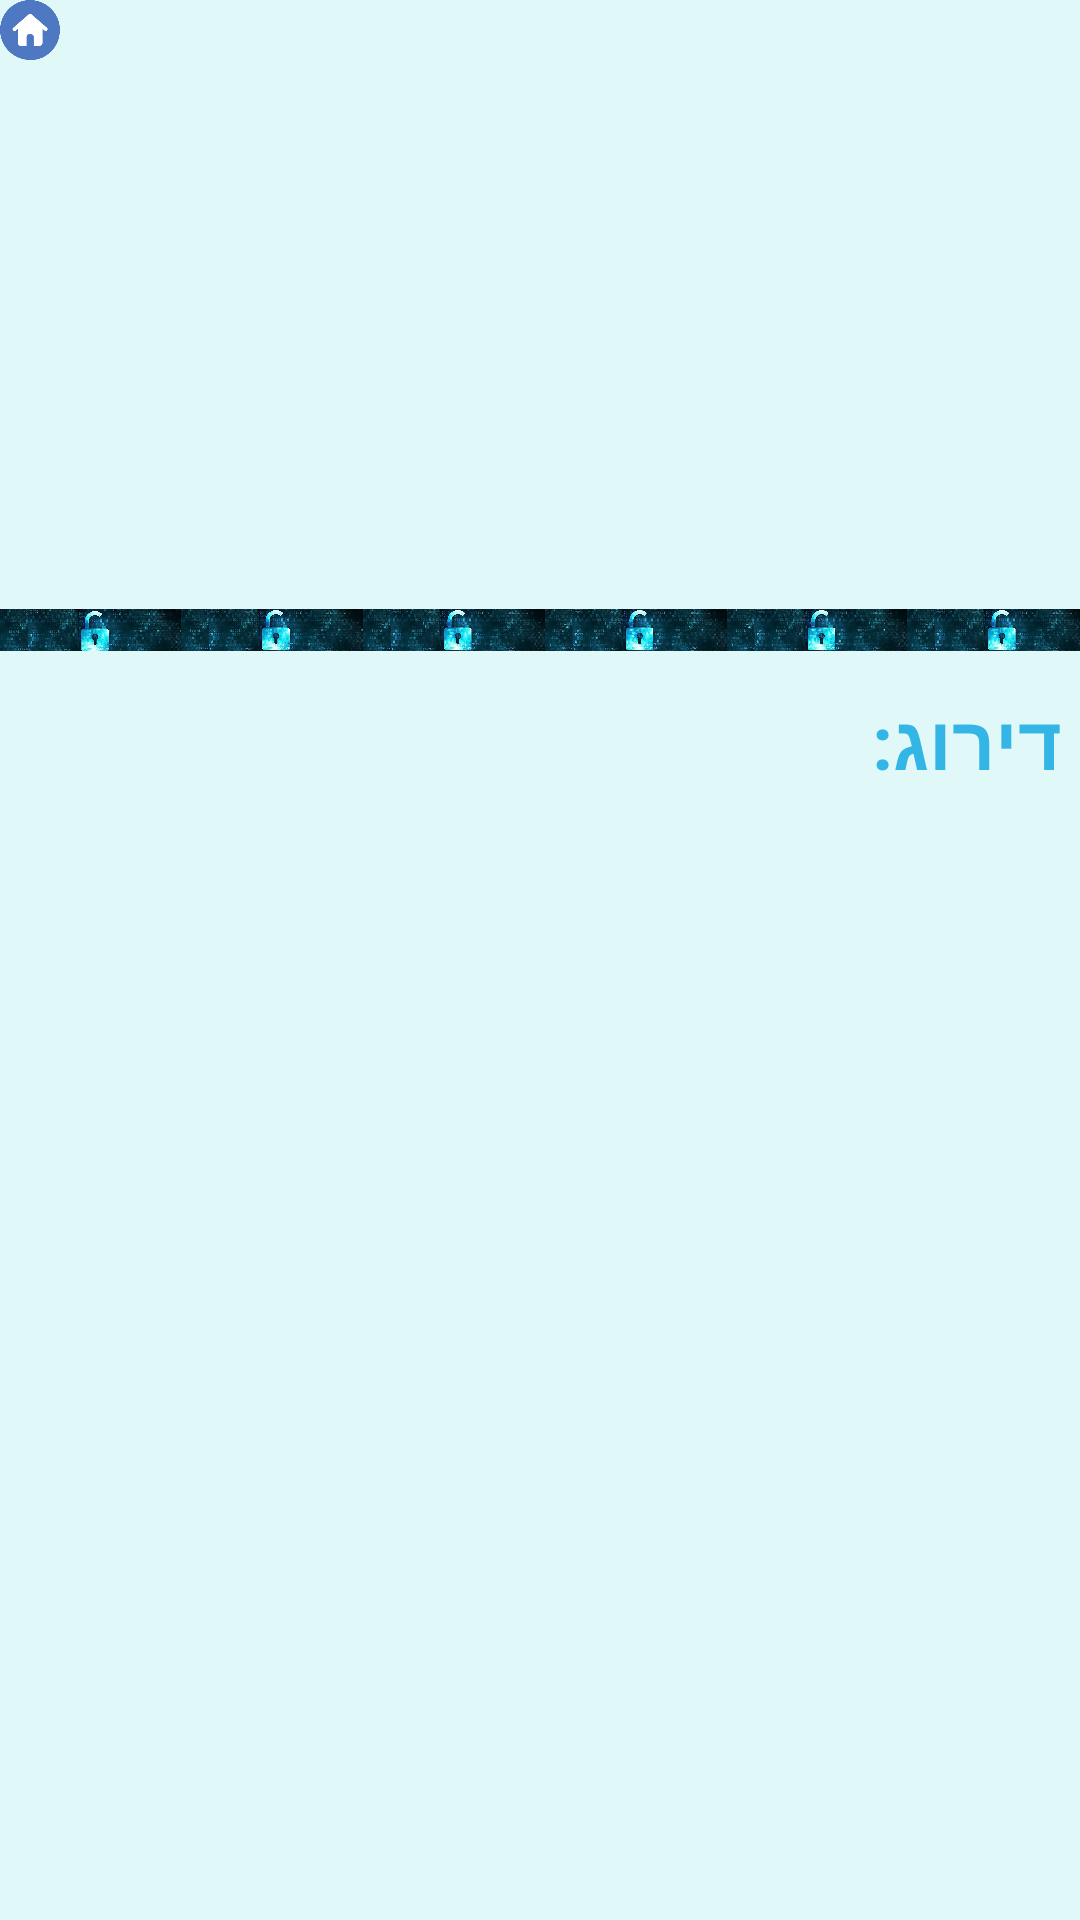

Named icons in this screenshot (1080px x 1920px) and their bounding boxes, [x1=x1, y1=y1, x2=x2, y2=y2]:
gotomenu: [x1=0, y1=0, x2=60, y2=60]
